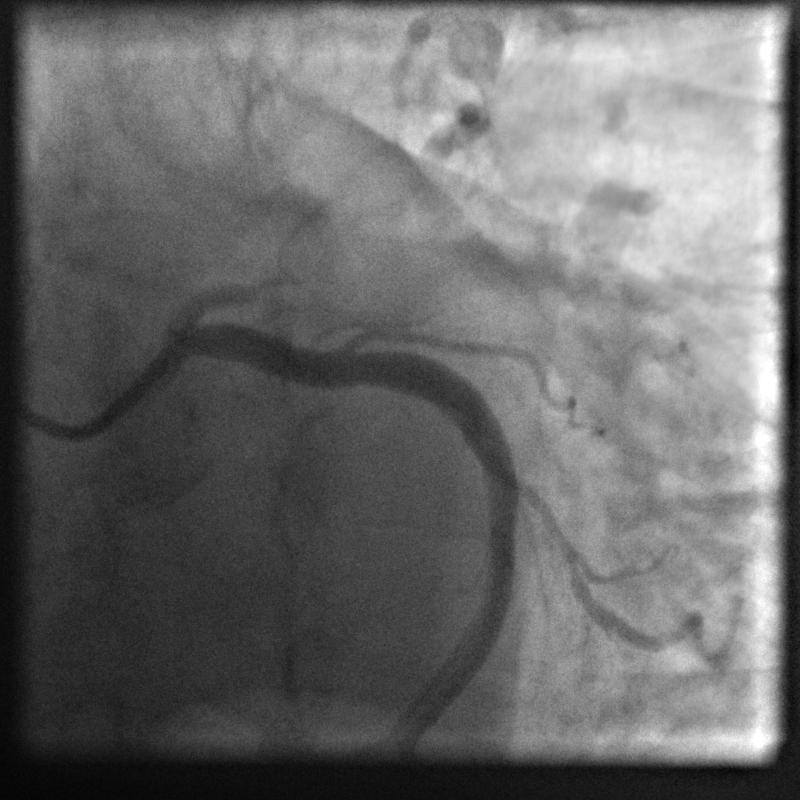Stenosis: (488, 439, 592, 583)
